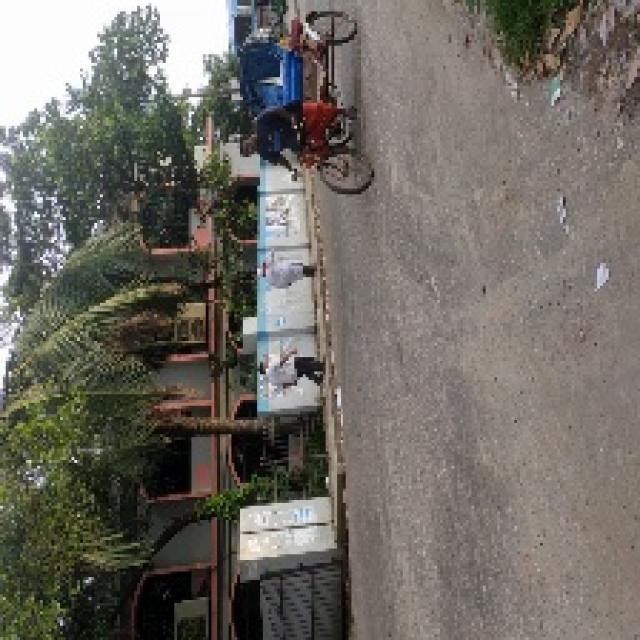rickshaw: (239, 30, 378, 208)
